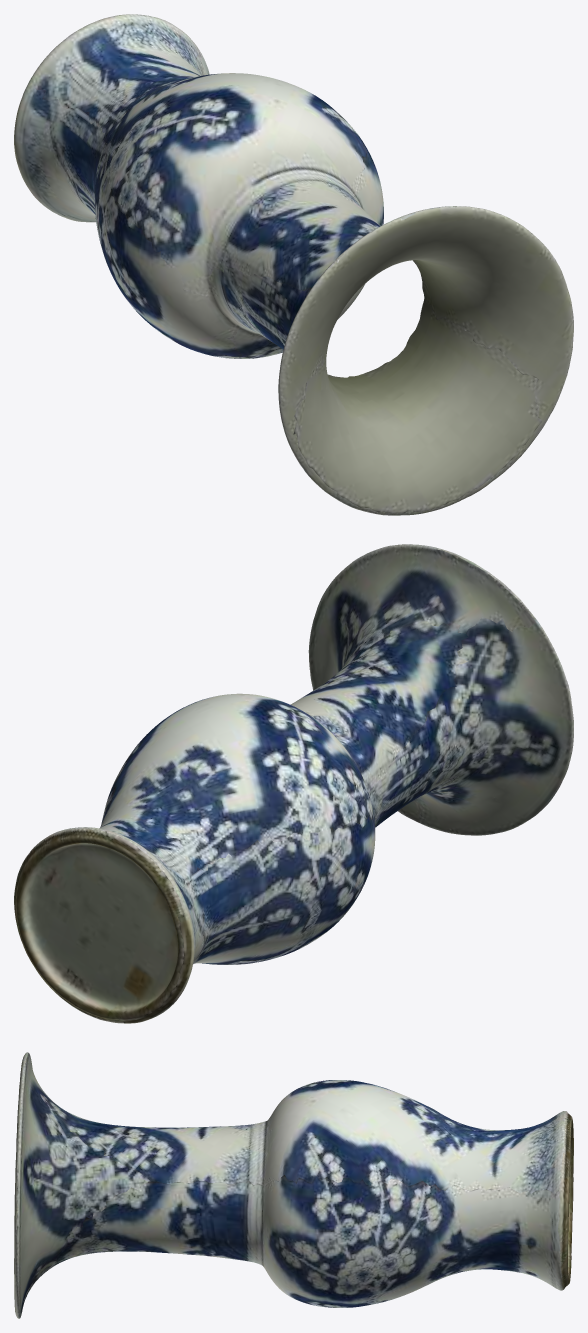
File: f1986_19-mesh-smooth-textured-30k-512-web.glb
The picture shows the model from 3 angles, top to bottom: view 1: azimuth 30°, elevation 25°; view 2: azimuth 150°, elevation 25°; view 3: azimuth 270°, elevation 25°; orthographic projection. The views are drawn at different scales.
Size of the model in its own units: 0.2217 by 0.2214 by 0.464.
Materials: 1 (1 with a texture image).
